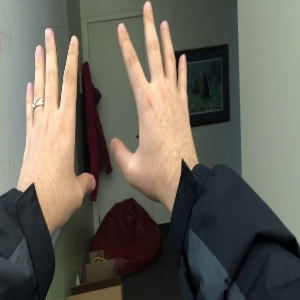hand: (109, 1, 198, 185), (26, 27, 95, 209)
